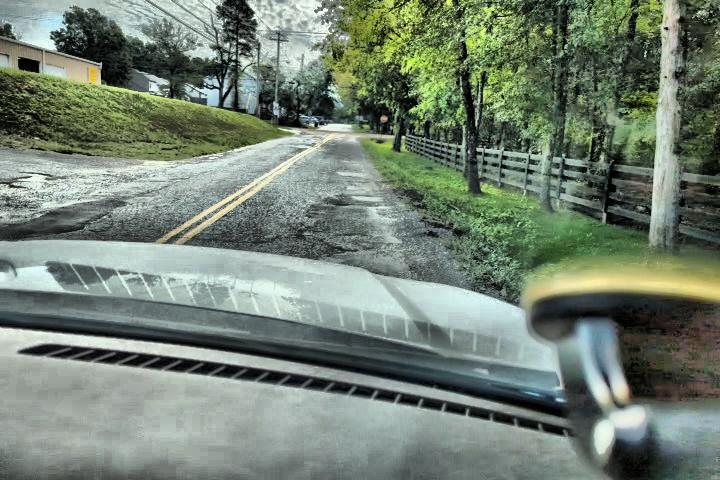pothole: (12, 167, 59, 185)
